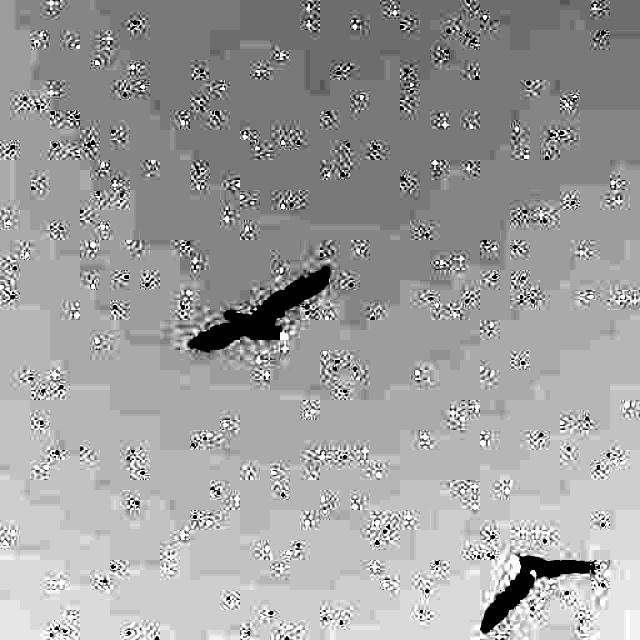airplane: (188, 249, 329, 368), (481, 550, 592, 640)
